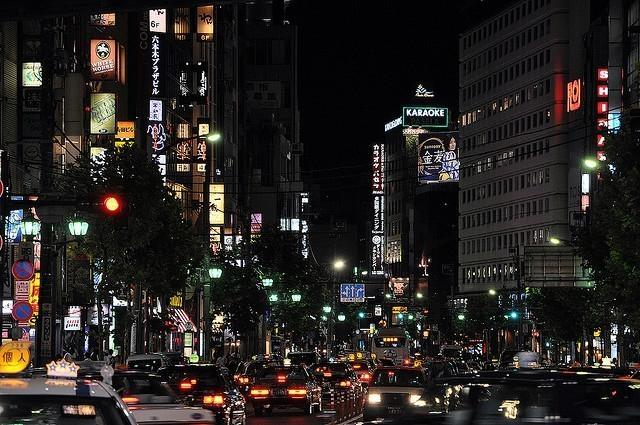bus: (370, 327, 411, 368)
car: (78, 369, 218, 425), (0, 372, 143, 425), (243, 364, 323, 424), (176, 384, 247, 425), (366, 369, 429, 414), (309, 363, 360, 398), (237, 358, 280, 398), (180, 365, 228, 391), (154, 363, 192, 394), (126, 354, 166, 374), (351, 360, 372, 386), (287, 352, 318, 367)
